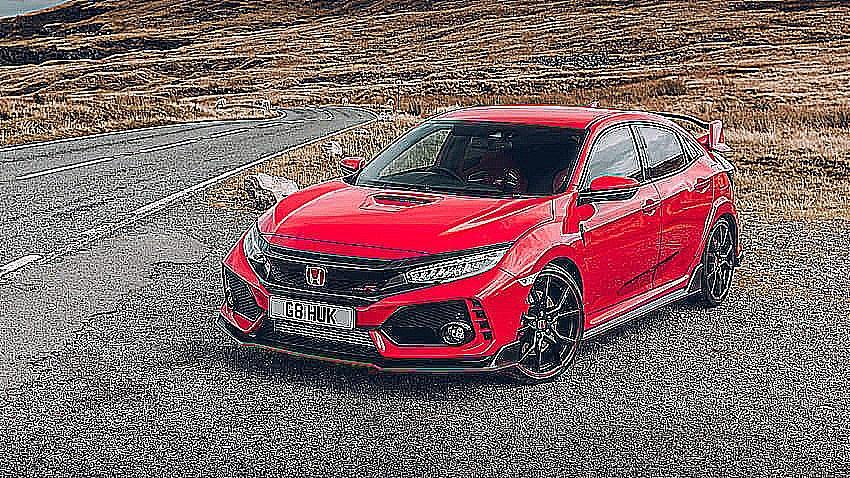Car hood: (253, 177, 557, 248)
Fender - -F-L-: (499, 192, 593, 349)
Fender - -R-L-: (703, 156, 750, 274)
Front bumper: (200, 248, 537, 386)
Headlight - -L-: (397, 236, 525, 288)
Headlight - -R-: (230, 219, 277, 269)
Passenger-s door - -F-L-: (582, 116, 663, 300)
Passenger-s door - -R-L-: (645, 113, 719, 283)
Rear bumper: (724, 221, 763, 289)
Rear light - -L-: (709, 148, 760, 186)
Side bumper - -L-: (574, 267, 723, 346)
Side mirror - -L-: (577, 162, 642, 217)
Side mirror - -R-: (333, 149, 376, 187)
